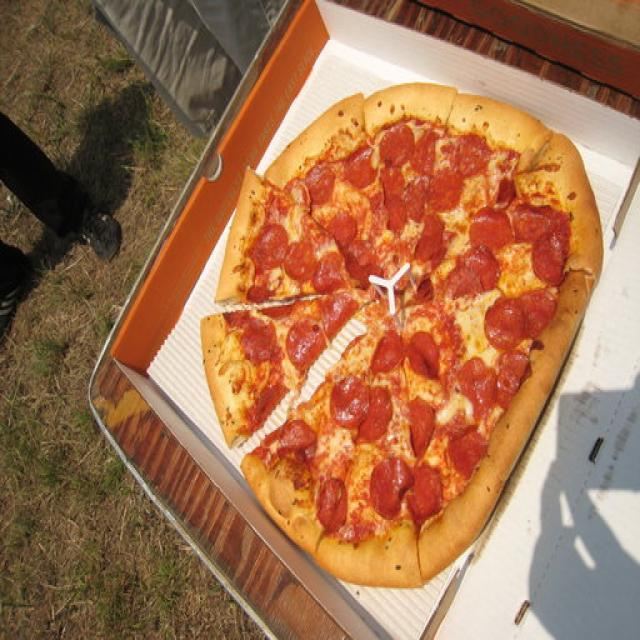Pepperoni: (499, 350, 534, 406), (486, 293, 521, 349), (449, 426, 484, 480), (476, 207, 518, 252), (288, 320, 324, 369), (453, 131, 494, 174), (373, 462, 409, 510), (414, 469, 444, 526), (462, 359, 493, 414), (534, 232, 565, 286), (363, 392, 395, 443), (411, 331, 444, 380), (332, 381, 367, 426), (462, 248, 502, 286), (518, 207, 564, 240), (317, 252, 350, 297), (526, 288, 558, 334), (239, 322, 276, 360), (434, 170, 466, 213), (256, 224, 286, 268), (306, 166, 339, 205), (412, 400, 434, 458), (287, 241, 317, 283), (283, 420, 316, 458), (346, 147, 377, 187), (382, 126, 412, 166), (326, 292, 351, 340), (410, 128, 438, 170), (321, 481, 346, 526), (449, 269, 484, 301), (419, 223, 445, 264), (287, 178, 314, 217), (377, 337, 406, 371), (381, 162, 408, 197), (326, 213, 356, 242), (492, 179, 517, 210), (411, 178, 427, 222), (388, 200, 408, 230), (409, 279, 432, 304)
Pizza: (202, 87, 604, 585)
